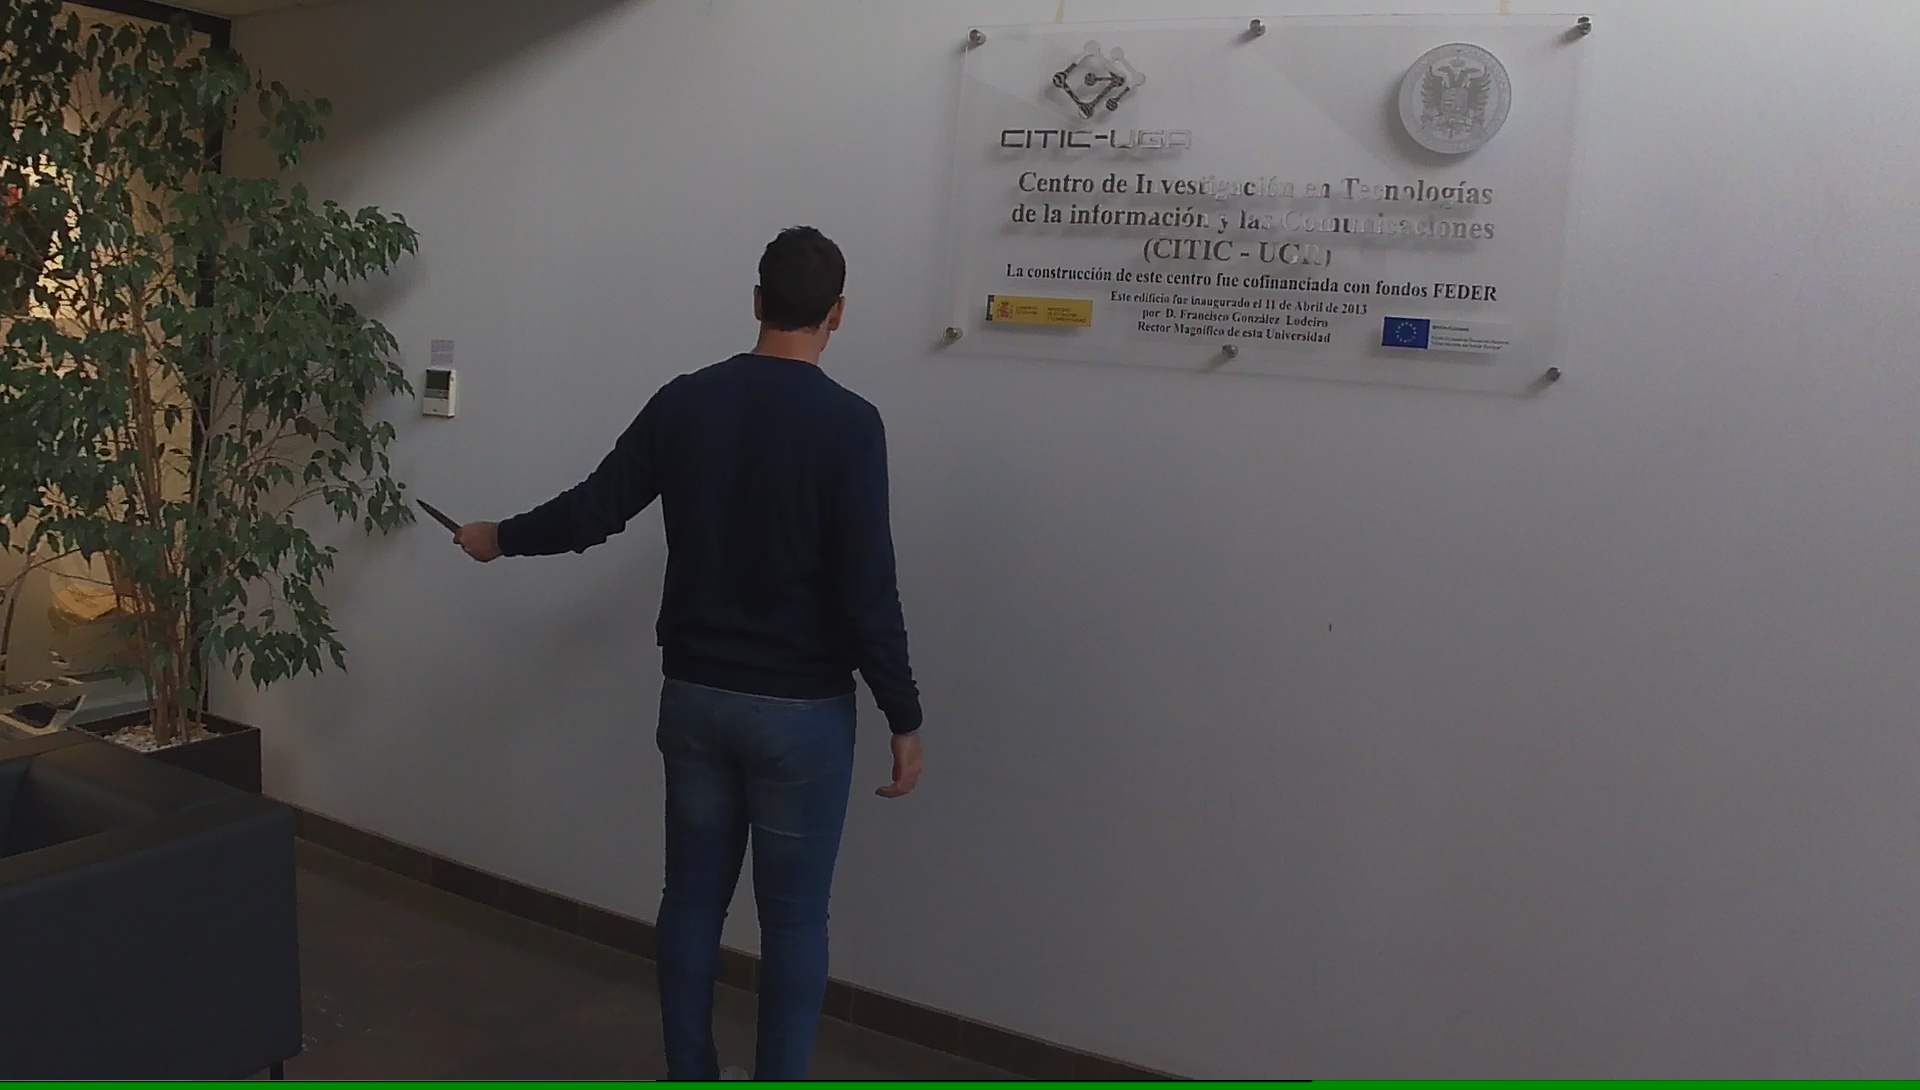knife: (409, 492, 484, 558)
